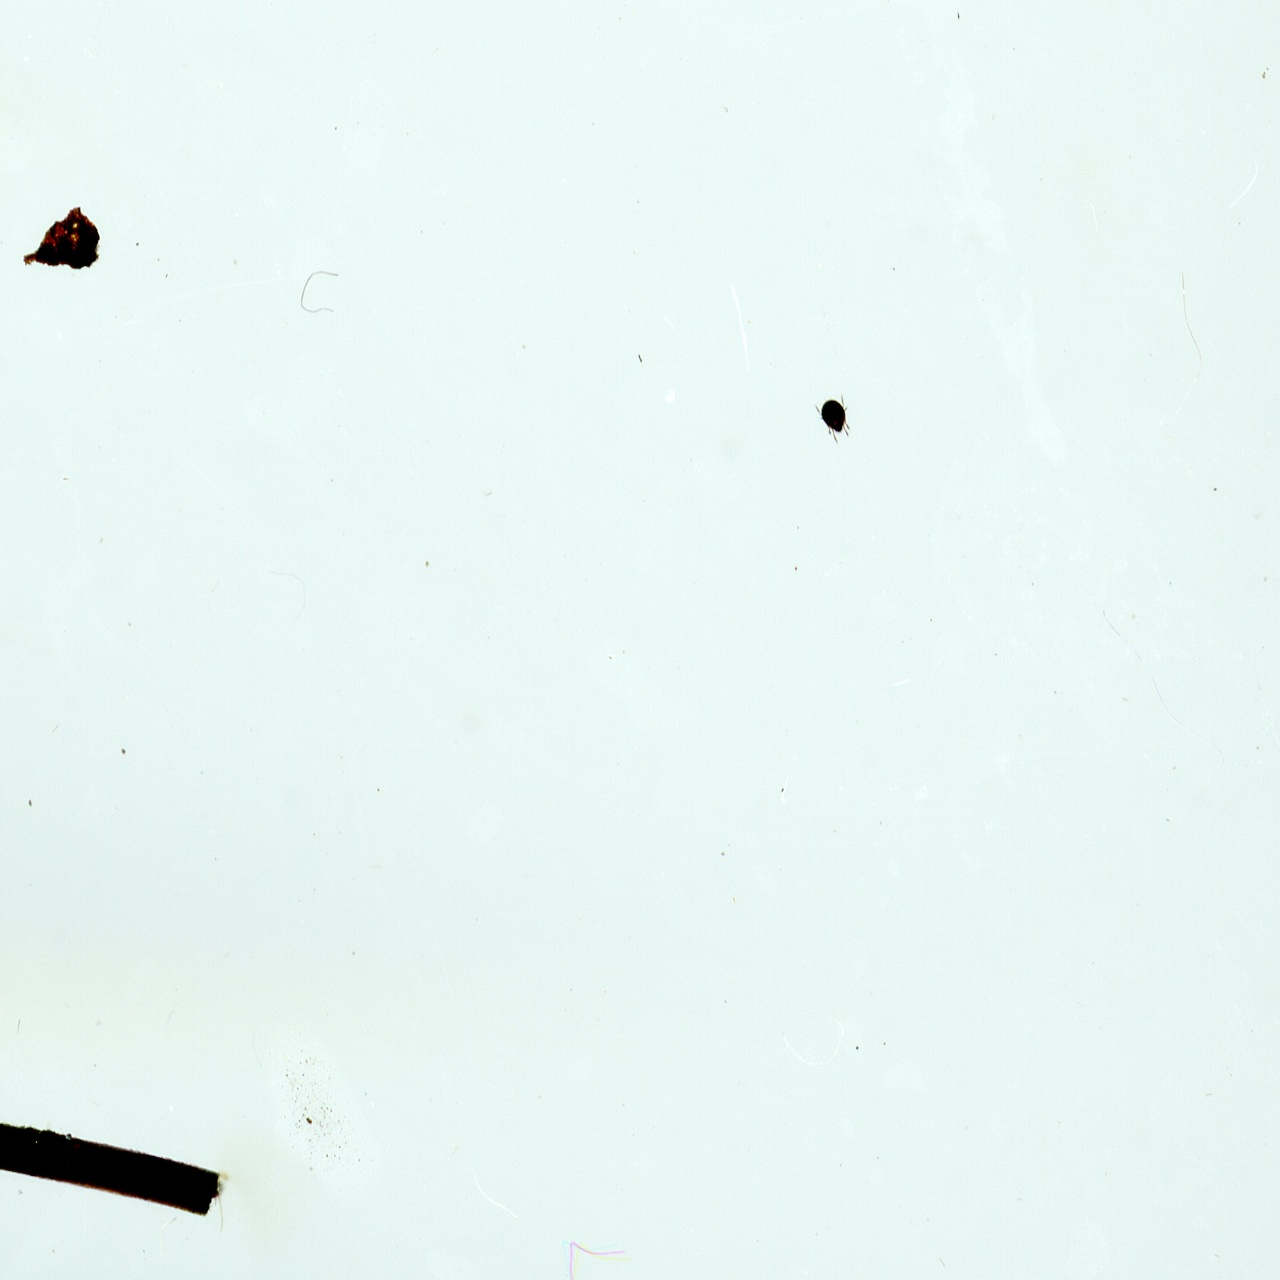arthropod: (812, 396, 853, 443)
